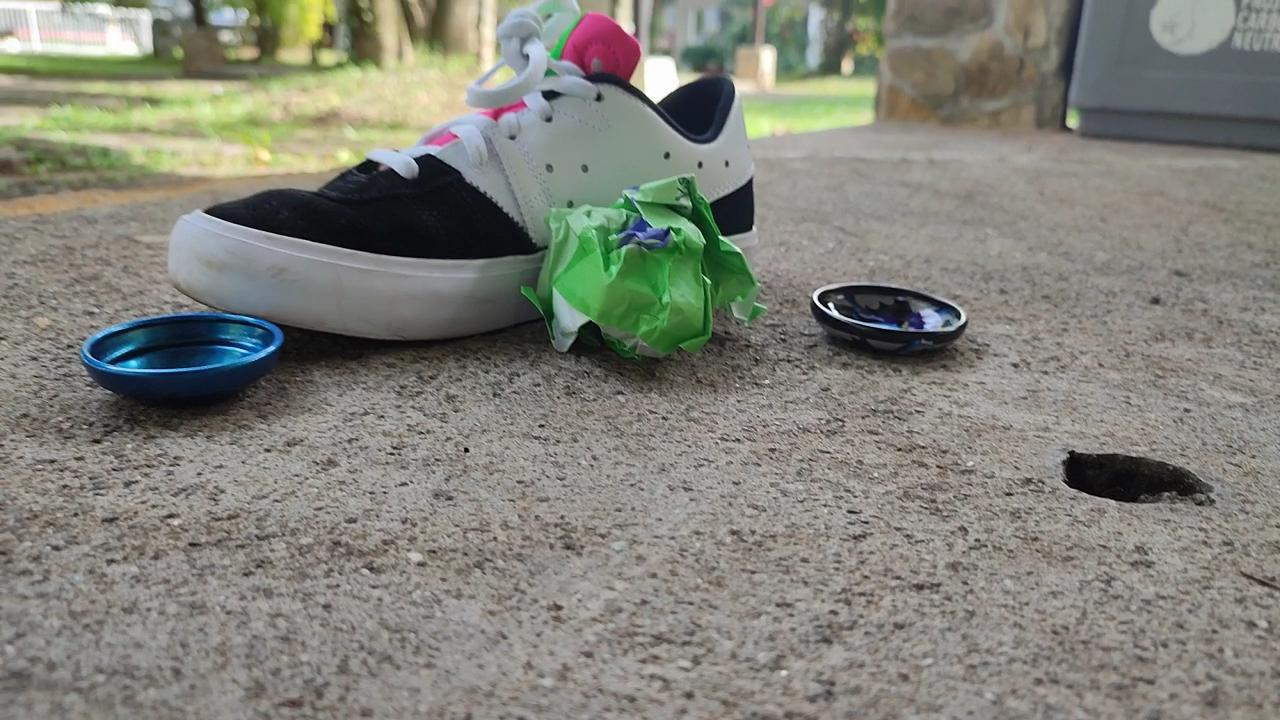Paper: (506, 151, 774, 378)
